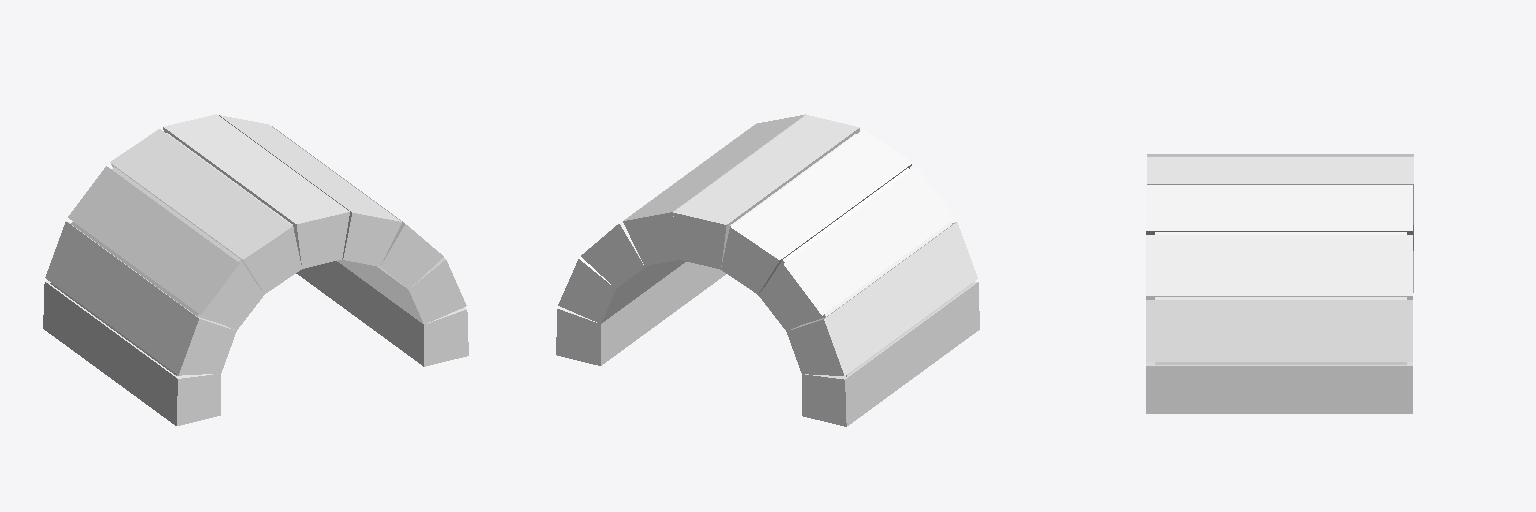
File: generic_round_arch_1.obj
3 views of the same model, side by side, from view 1: azimuth 30°, elevation 25°; view 2: azimuth 150°, elevation 25°; view 3: azimuth 270°, elevation 25° (orthographic).
Visible parts, largest first — view 1: cube.273, cube.274, cube.272, cube.271, cube.275, cube.004_cube.002, cube.007_cube.002, cube.005_cube.002, cube.006_cube.002, cube.278, cube.277; view 2: cube.273, cube.274, cube.272, cube.271, cube.275, cube.004_cube.002, cube.007_cube.002, cube.005_cube.002, cube.006_cube.002, cube.278, cube.277; view 3: cube.006_cube.002, cube.005_cube.002, cube.004_cube.002, cube.007_cube.002, cube.271, cube.272, cube.281, cube.282, cube.283.
Part boxes in pixels (x1,y1,x2,y2): cube.273: (68, 166, 264, 330); cube.274: (45, 221, 236, 375); cube.272: (110, 129, 301, 293); cube.271: (163, 114, 349, 268); cube.275: (43, 281, 220, 425); cube.004_cube.002: (296, 261, 468, 366); cube.007_cube.002: (219, 115, 401, 266); cube.005_cube.002: (337, 258, 466, 324); cube.006_cube.002: (272, 126, 443, 289); cube.278: (112, 167, 253, 279); cube.277: (71, 222, 219, 323); cube.273: (758, 167, 954, 330); cube.274: (786, 222, 977, 375); cube.272: (721, 129, 912, 294); cube.271: (673, 115, 859, 269); cube.275: (802, 281, 979, 426); cube.004_cube.002: (556, 262, 725, 365); cube.007_cube.002: (623, 114, 805, 265); cube.005_cube.002: (558, 257, 686, 323); cube.006_cube.002: (581, 126, 751, 288); cube.278: (768, 168, 910, 281); cube.277: (802, 222, 951, 324); cube.006_cube.002: (1146, 235, 1412, 299); cube.005_cube.002: (1146, 300, 1412, 361); cube.004_cube.002: (1146, 362, 1412, 413); cube.007_cube.002: (1146, 185, 1412, 234); cube.271: (1147, 157, 1413, 224); cube.272: (1147, 154, 1413, 156); cube.281: (1155, 232, 1406, 234); cube.282: (1155, 297, 1406, 299); cube.283: (1155, 362, 1406, 364).
Size of the model in its own units: 1.42 by 0.8038 by 1.13.